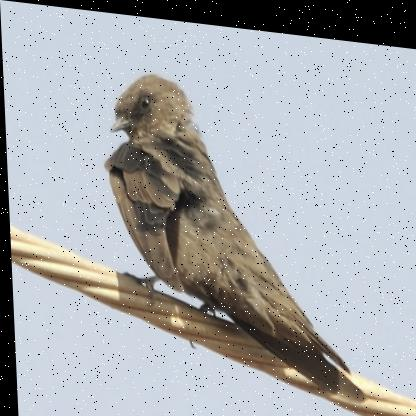Burung: (101, 65, 348, 366)
